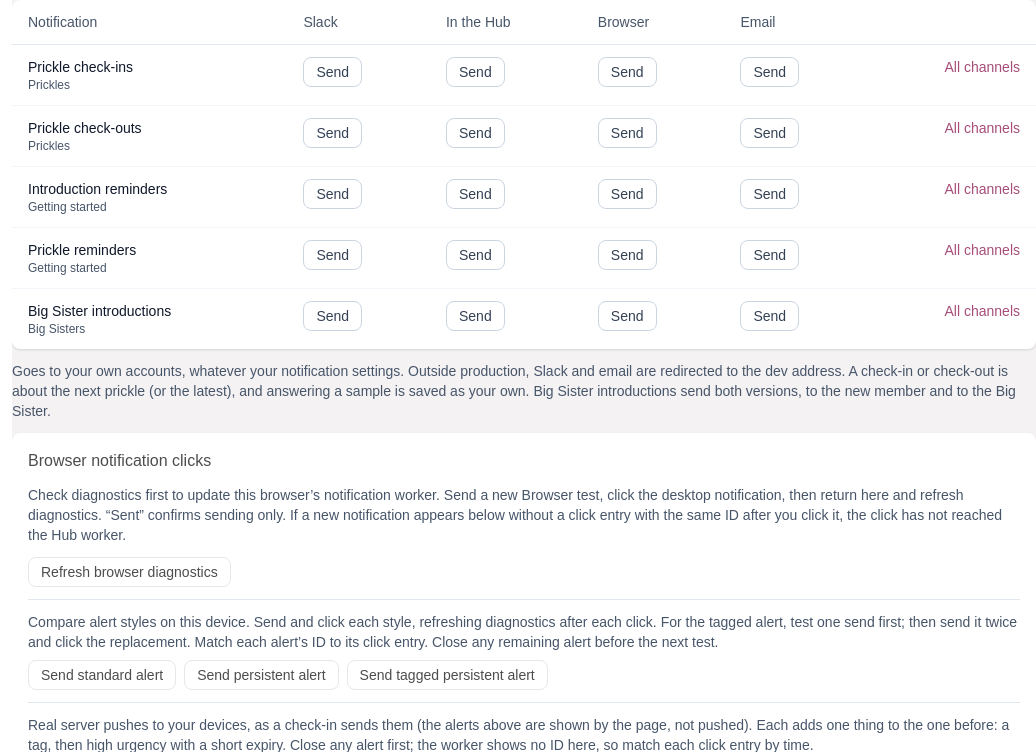
TestNotifications › sends the one notification on the one channel, and shows it went
The width and height of the screenshot is (1036, 752).
Click the button with aria-label "Send Introduction reminders by Slack" at (333, 194), box [303,179,362,209]
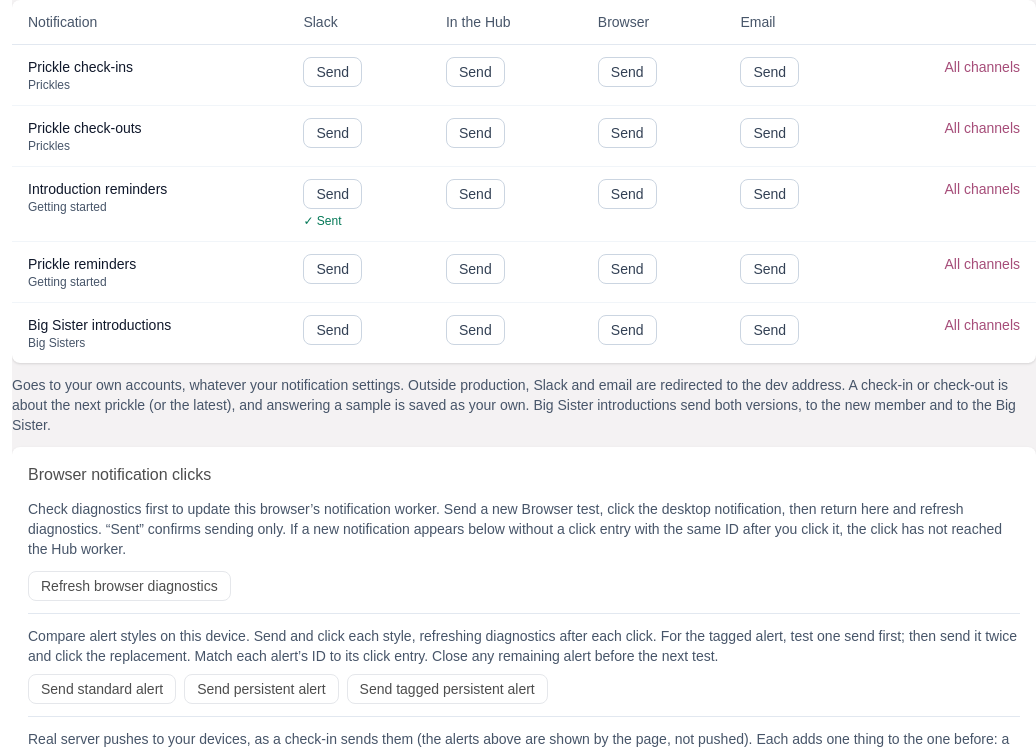
Result: the message reads "✓ Sent" at [303,214,342,228]
